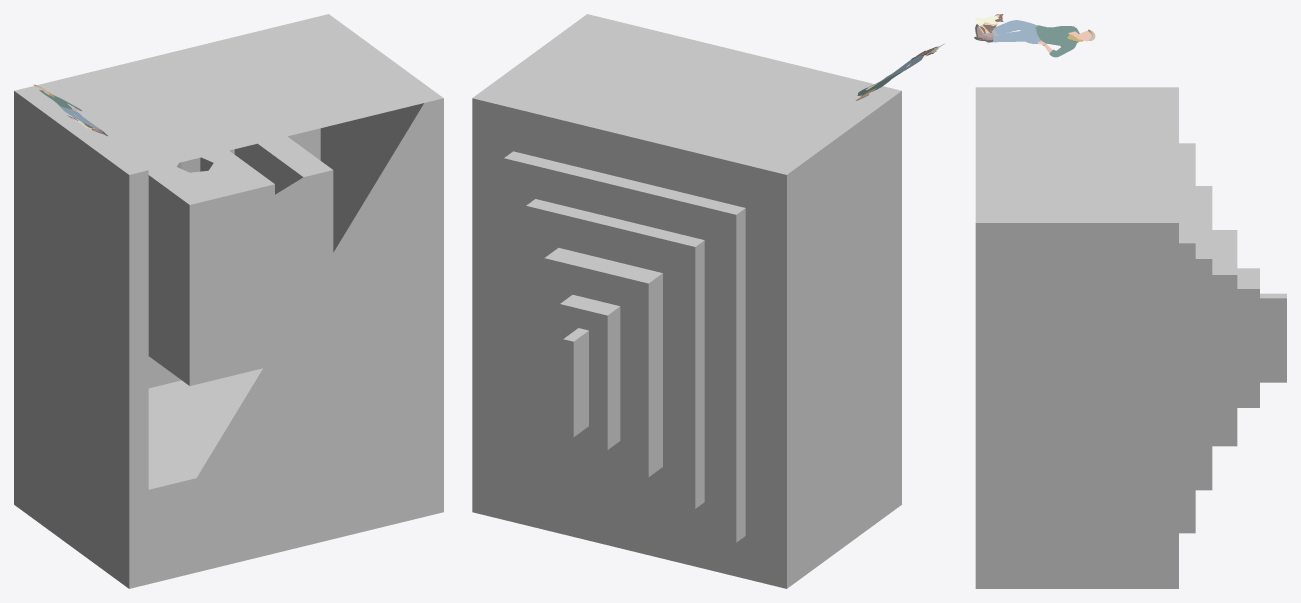
Rendered from moxing1-model-web.glb.
3 views of the same model, side by side, from view 1: azimuth 30°, elevation 25°; view 2: azimuth 150°, elevation 25°; view 3: azimuth 270°, elevation 25° (orthographic). The views are drawn at different scales.
Visible parts, largest first — view 1: FrontColor; view 2: FrontColor; view 3: FrontColor, Heather_Jeans, Heather_Shirt.
Part boxes in pixels (<box>): FrontColor: <box>14,14,443,588</box>; FrontColor: <box>472,14,901,588</box>; FrontColor: <box>975,87,1286,588</box>; Heather_Jeans: <box>992,20,1040,43</box>; Heather_Shirt: <box>1035,25,1079,57</box>.
Size of the model in its own units: 5.01 by 6.27 by 4.25.
